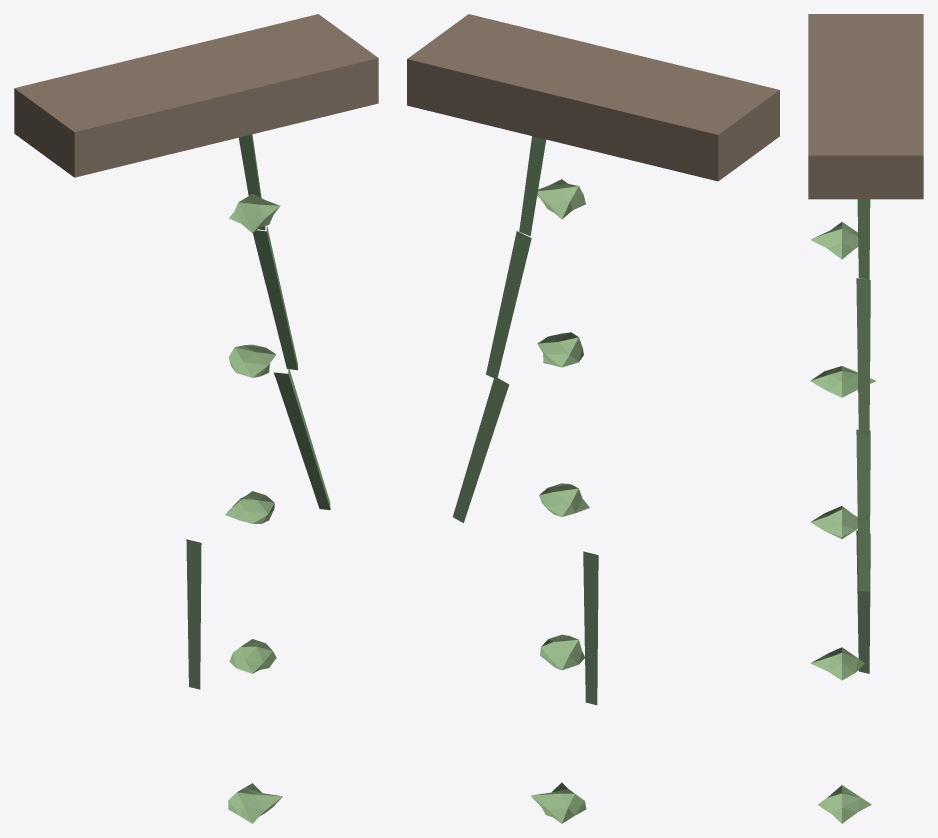
File: vine_v32.glb
3 views of the same model, side by side, from view 1: azimuth 30°, elevation 25°; view 2: azimuth 150°, elevation 25°; view 3: azimuth 270°, elevation 25° (orthographic). The views are drawn at different scales.
Parts seen in each view (by area): view 1: lod0; view 2: lod0; view 3: lod0.
Boxes of the visible parts, left/top/right/bottom form: lod0: left=14, top=14, right=378, bottom=823; lod0: left=407, top=14, right=779, bottom=823; lod0: left=808, top=14, right=923, bottom=823.
Size of what is drawn, in the model's own units: 0.7 by 1.65 by 0.24.
